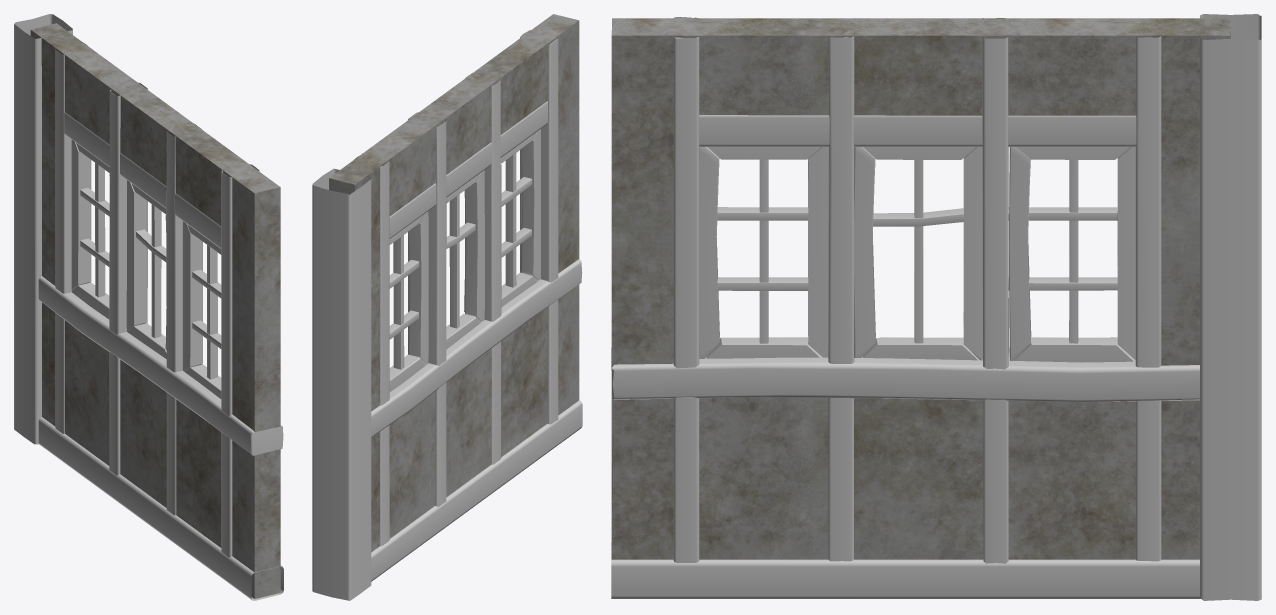
File: SM_WallWindowLarge06.fbx
3 renders of one model, left to right at view 1: azimuth 30°, elevation 25°; view 2: azimuth 150°, elevation 25°; view 3: azimuth 270°, elevation 25°, orthographic. The views are drawn at different scales.
Parts seen in each view (by area): view 1: SM_WallWindowLarge06_LOD0; view 2: SM_WallWindowLarge06_LOD0; view 3: SM_WallWindowLarge06_LOD0.
Part boxes in pixels (box(x1,y1,x2,y2)): SM_WallWindowLarge06_LOD0: box(14, 14, 283, 600); SM_WallWindowLarge06_LOD0: box(312, 14, 582, 600); SM_WallWindowLarge06_LOD0: box(611, 14, 1261, 600).
Bounding box in the file's own units: 30 × 315 × 302.
